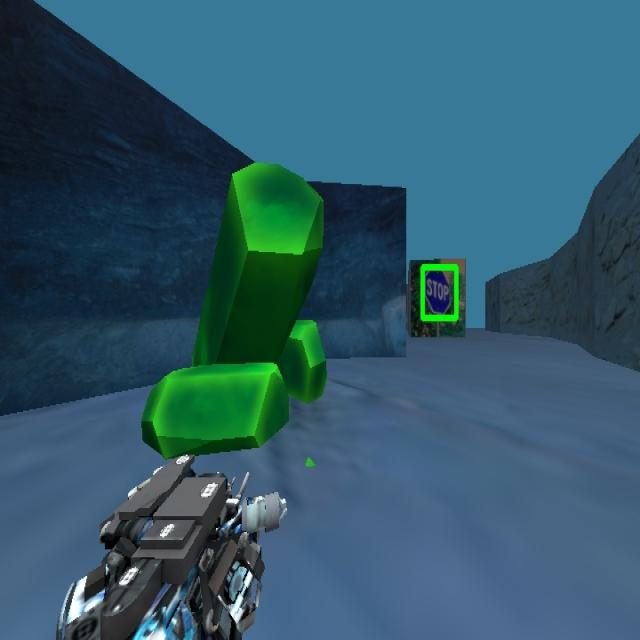Circle: (139, 159, 327, 460)
Stop_Sign: (418, 262, 458, 322)
